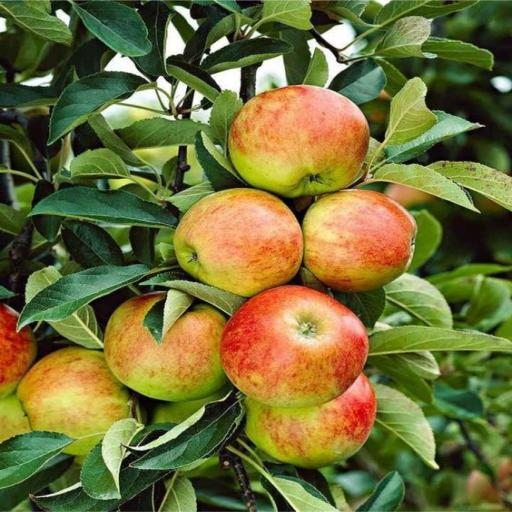apple: (221, 285, 368, 407), (229, 85, 369, 197), (174, 188, 303, 296), (105, 293, 226, 401), (18, 347, 129, 454), (303, 191, 416, 291)
